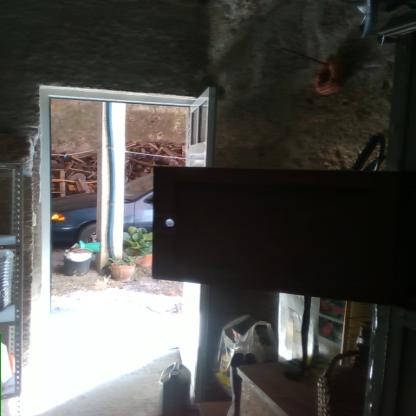open: (19, 76, 227, 411)
